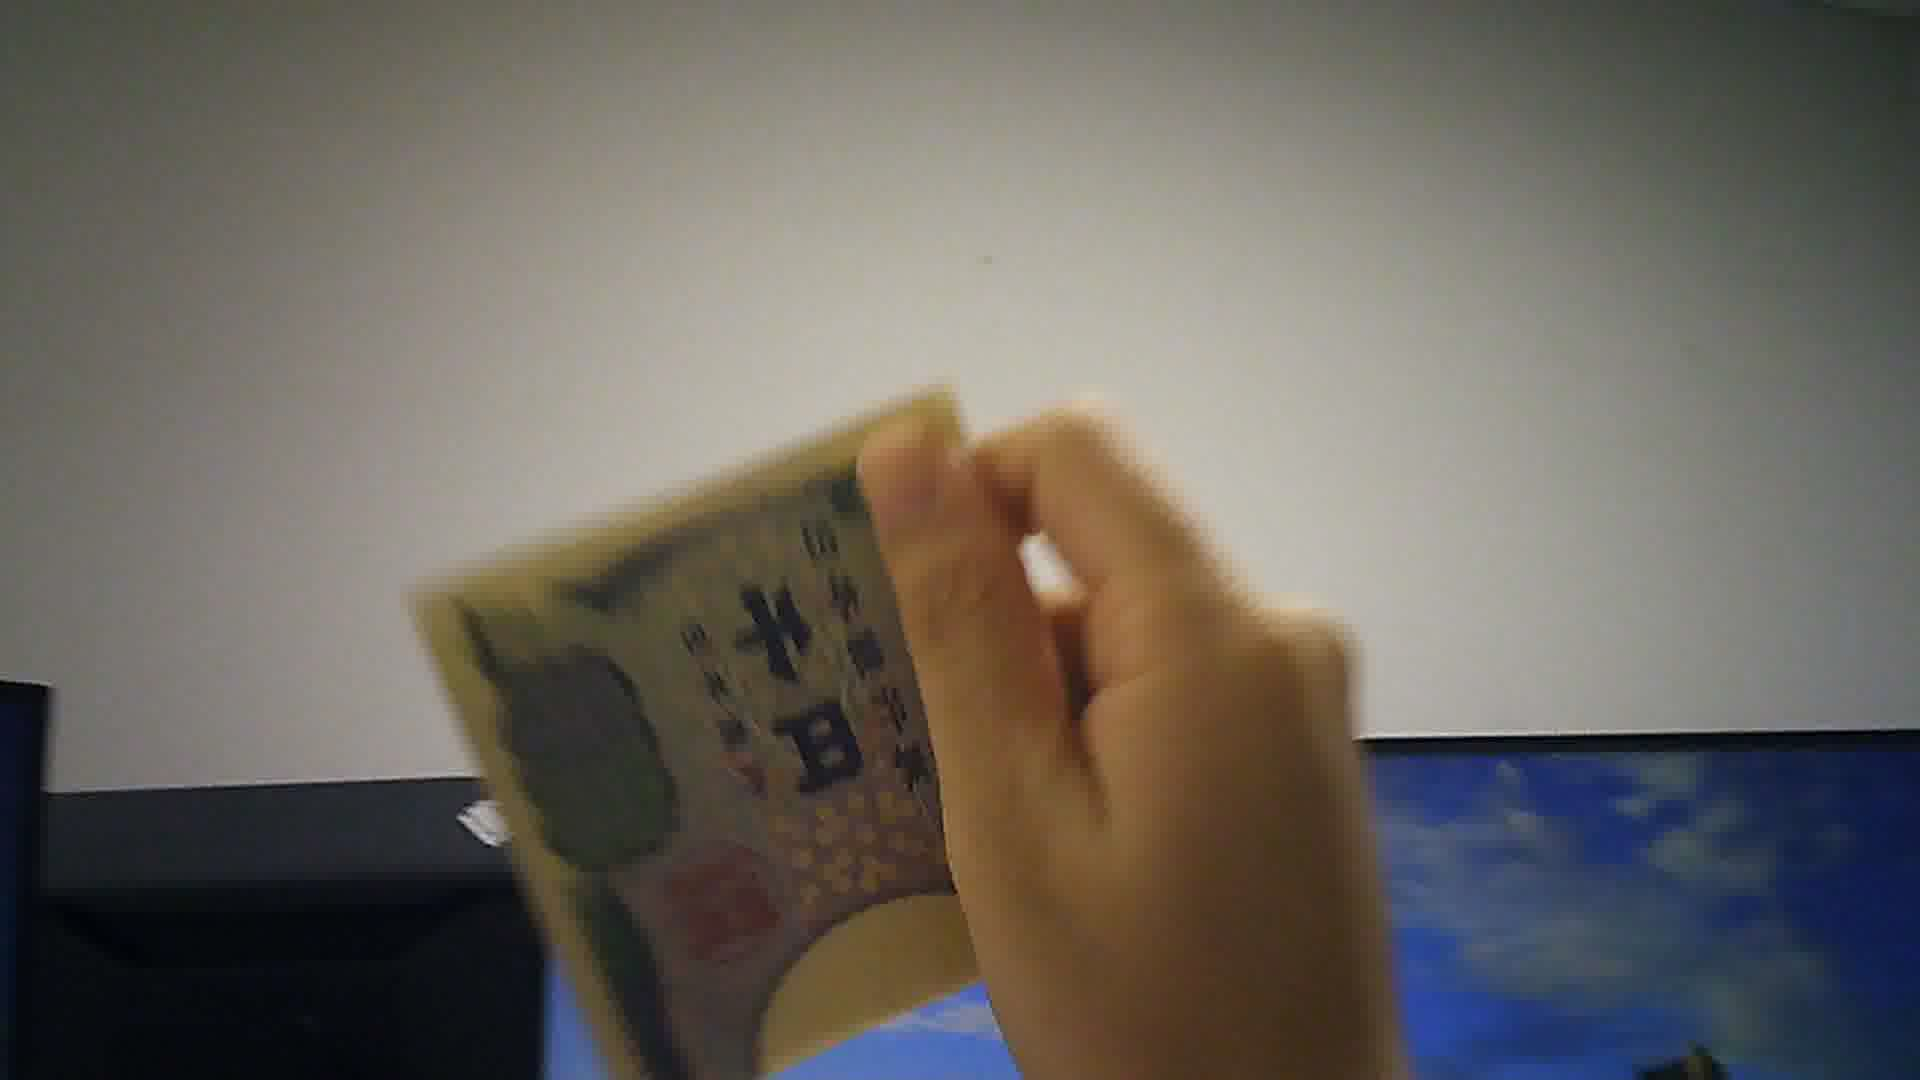1,000 Yen: (429, 388, 1092, 1079)
